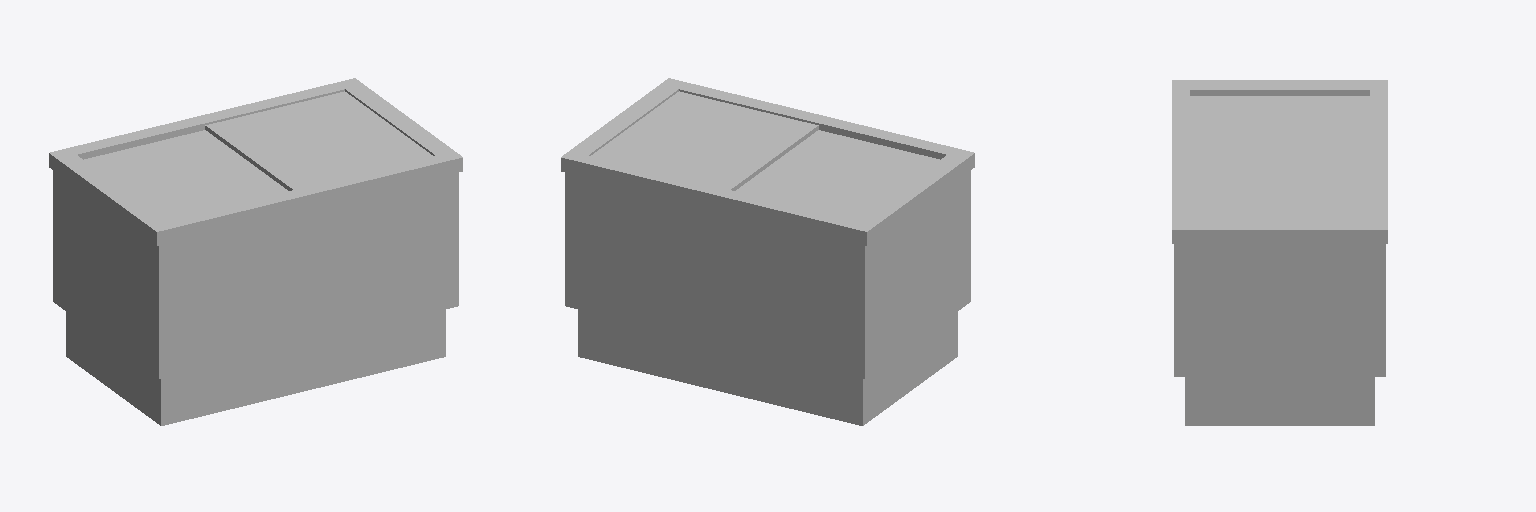
The model's file is fridge2.obj.
3 views of the same model, side by side, from view 1: azimuth 30°, elevation 25°; view 2: azimuth 150°, elevation 25°; view 3: azimuth 270°, elevation 25° (orthographic).
Parts seen in each view (by area): view 1: Fridge, Fridge Fridge_D_01, Fridge Fridge_D; view 2: Fridge, Fridge Fridge_D_01, Fridge Fridge_D; view 3: Fridge, Fridge Fridge_D_01, Fridge Fridge_D.
Part boxes in pixels (left/top/right/bottom): Fridge: left=49, top=78, right=462, bottom=425; Fridge Fridge_D_01: left=205, top=91, right=432, bottom=190; Fridge Fridge_D: left=84, top=130, right=287, bottom=220; Fridge: left=561, top=78, right=974, bottom=425; Fridge Fridge_D_01: left=591, top=91, right=818, bottom=190; Fridge Fridge_D: left=736, top=130, right=939, bottom=220; Fridge: left=1172, top=80, right=1387, bottom=425; Fridge Fridge_D_01: left=1190, top=155, right=1369, bottom=220; Fridge Fridge_D: left=1190, top=96, right=1369, bottom=154.
Bounding box in the file's own units: 169 × 106 × 103.